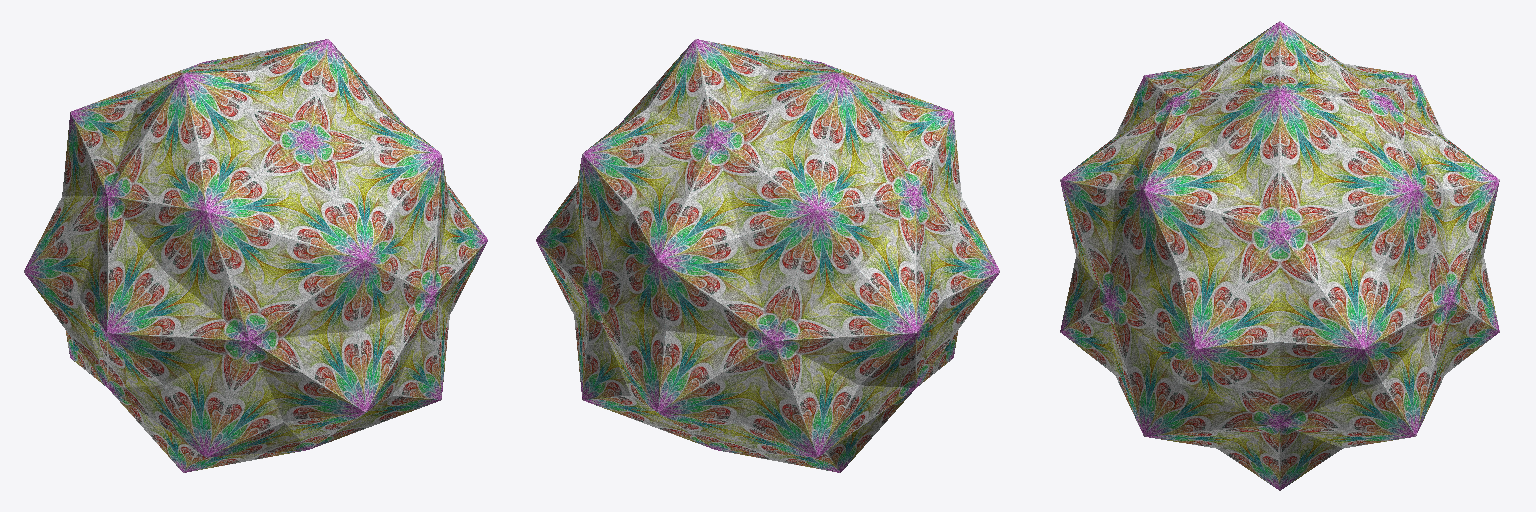
3 renders of one model, left to right at view 1: azimuth 30°, elevation 25°; view 2: azimuth 150°, elevation 25°; view 3: azimuth 270°, elevation 25°, orthographic.
Size of the model in its own units: 3.62 by 3.62 by 3.62.
1 materials, 1 textured.